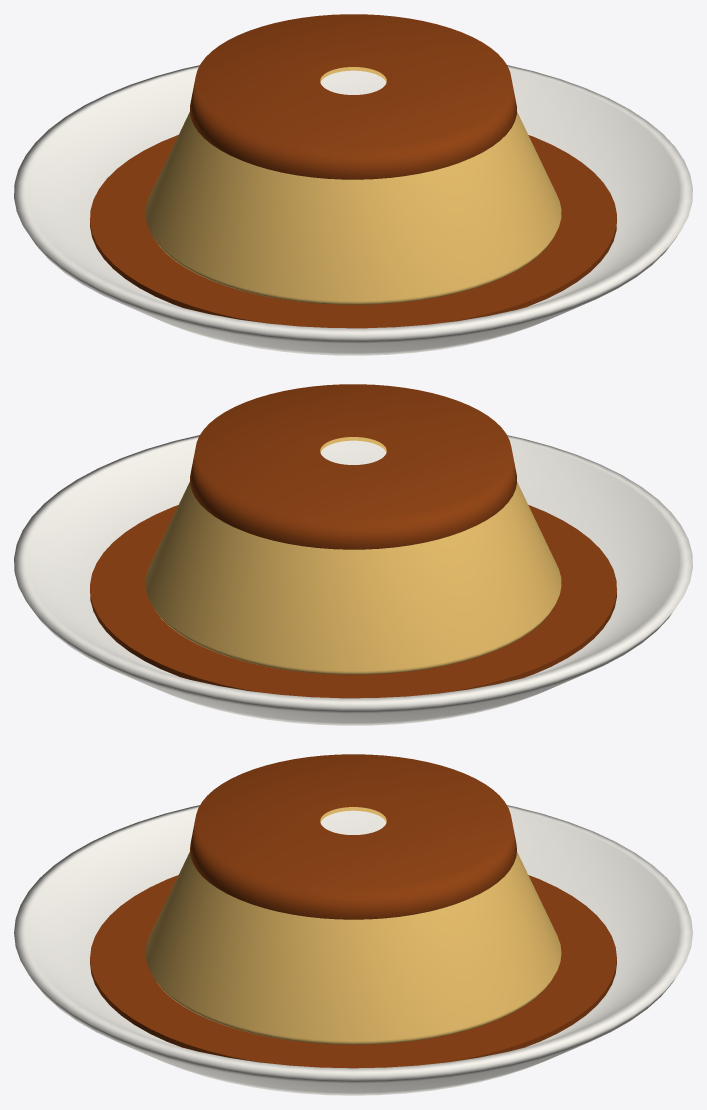
The model's file is pudim.glb.
3 renders of one model, top to bottom at view 1: azimuth 30°, elevation 25°; view 2: azimuth 150°, elevation 25°; view 3: azimuth 270°, elevation 25°, orthographic.
Visible parts, largest first — view 1: pudim, prato; view 2: pudim, prato; view 3: pudim, prato.
Part boxes in pixels (x1,y1,x2,y2): pudim: (90,14,616,328); prato: (14,65,692,355); pudim: (90,384,616,698); prato: (14,435,692,725); pudim: (90,754,616,1068); prato: (14,805,692,1095).
Size of the model in its own units: 0.2448 by 0.0645 by 0.2448.
